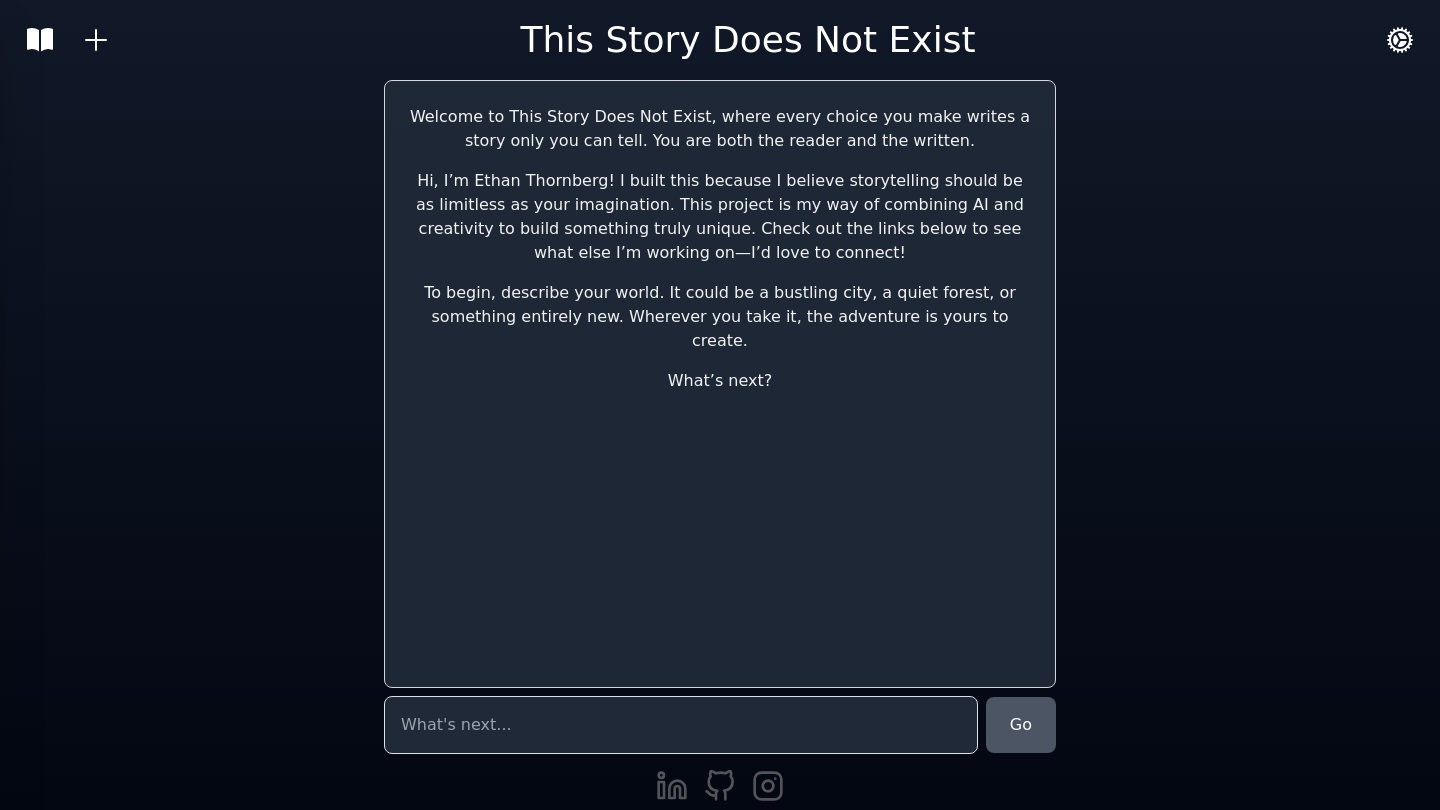
Test: App Integration Tests › displays error message when fetch fails
Type "Test message" into the field with placeholder "What's next..." at (681, 725), box [384, 696, 978, 754]
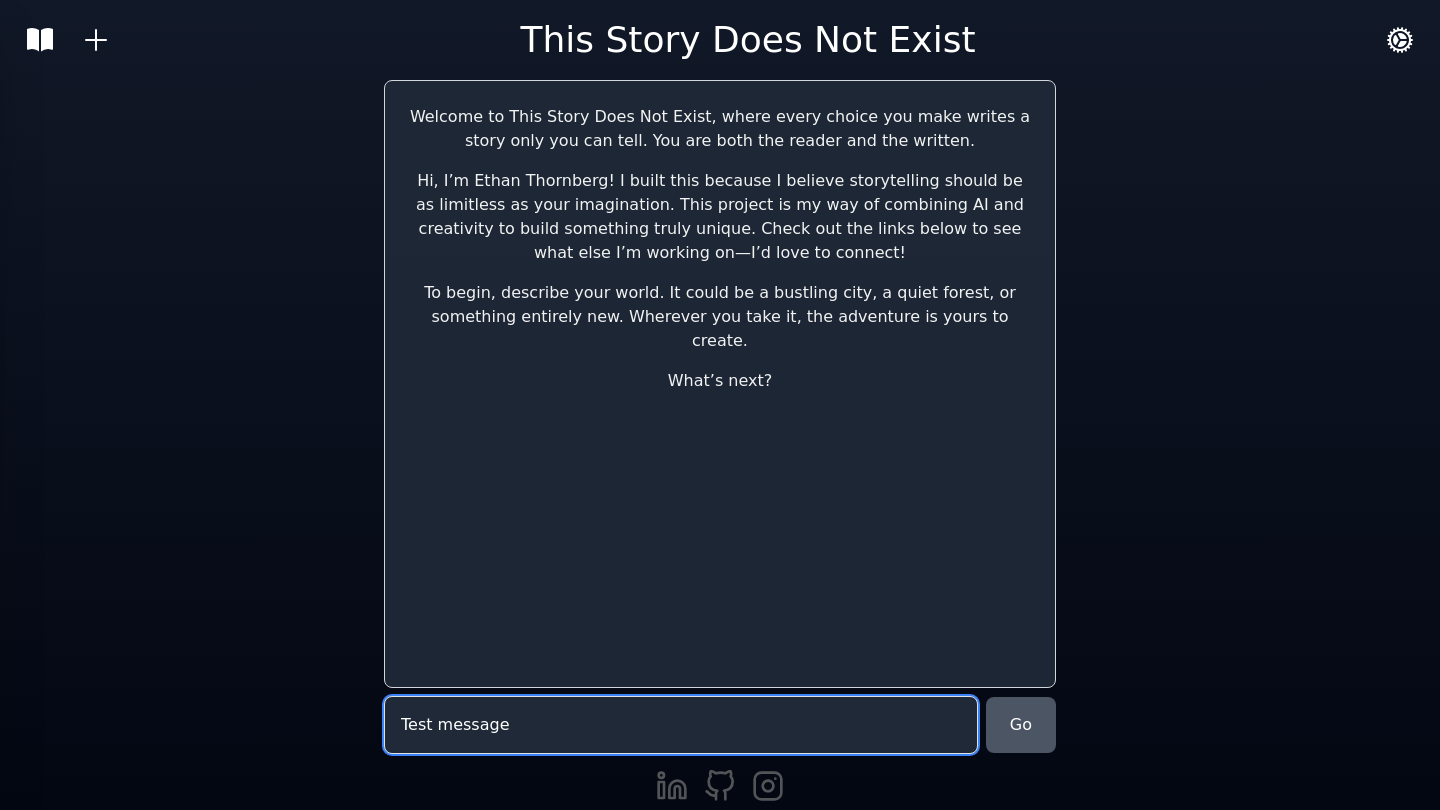
Click the button "Go" at (1021, 725), box [986, 697, 1056, 753]
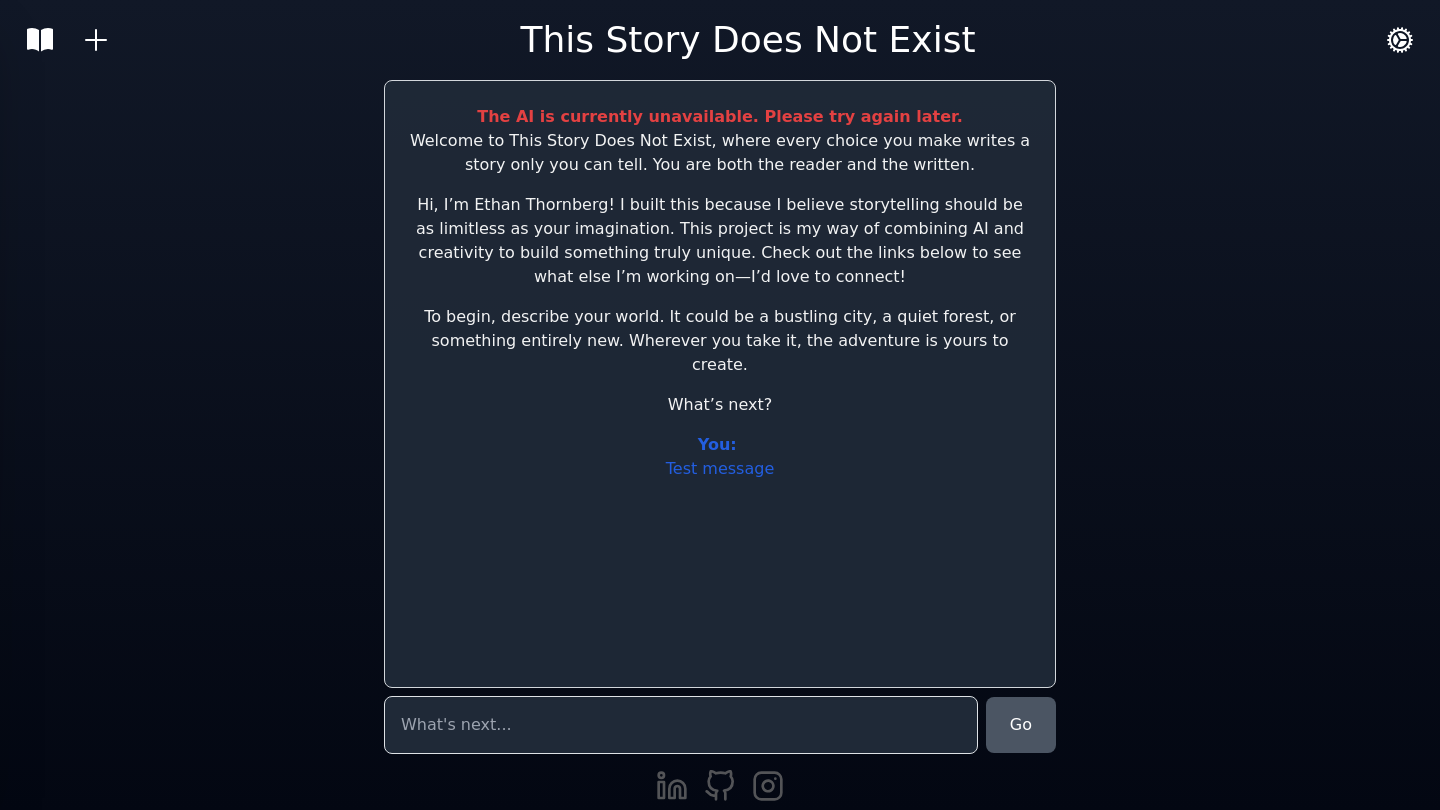
Now the text "The AI is currently unavailable. Please try again later." is shown, box [477, 107, 963, 126]
